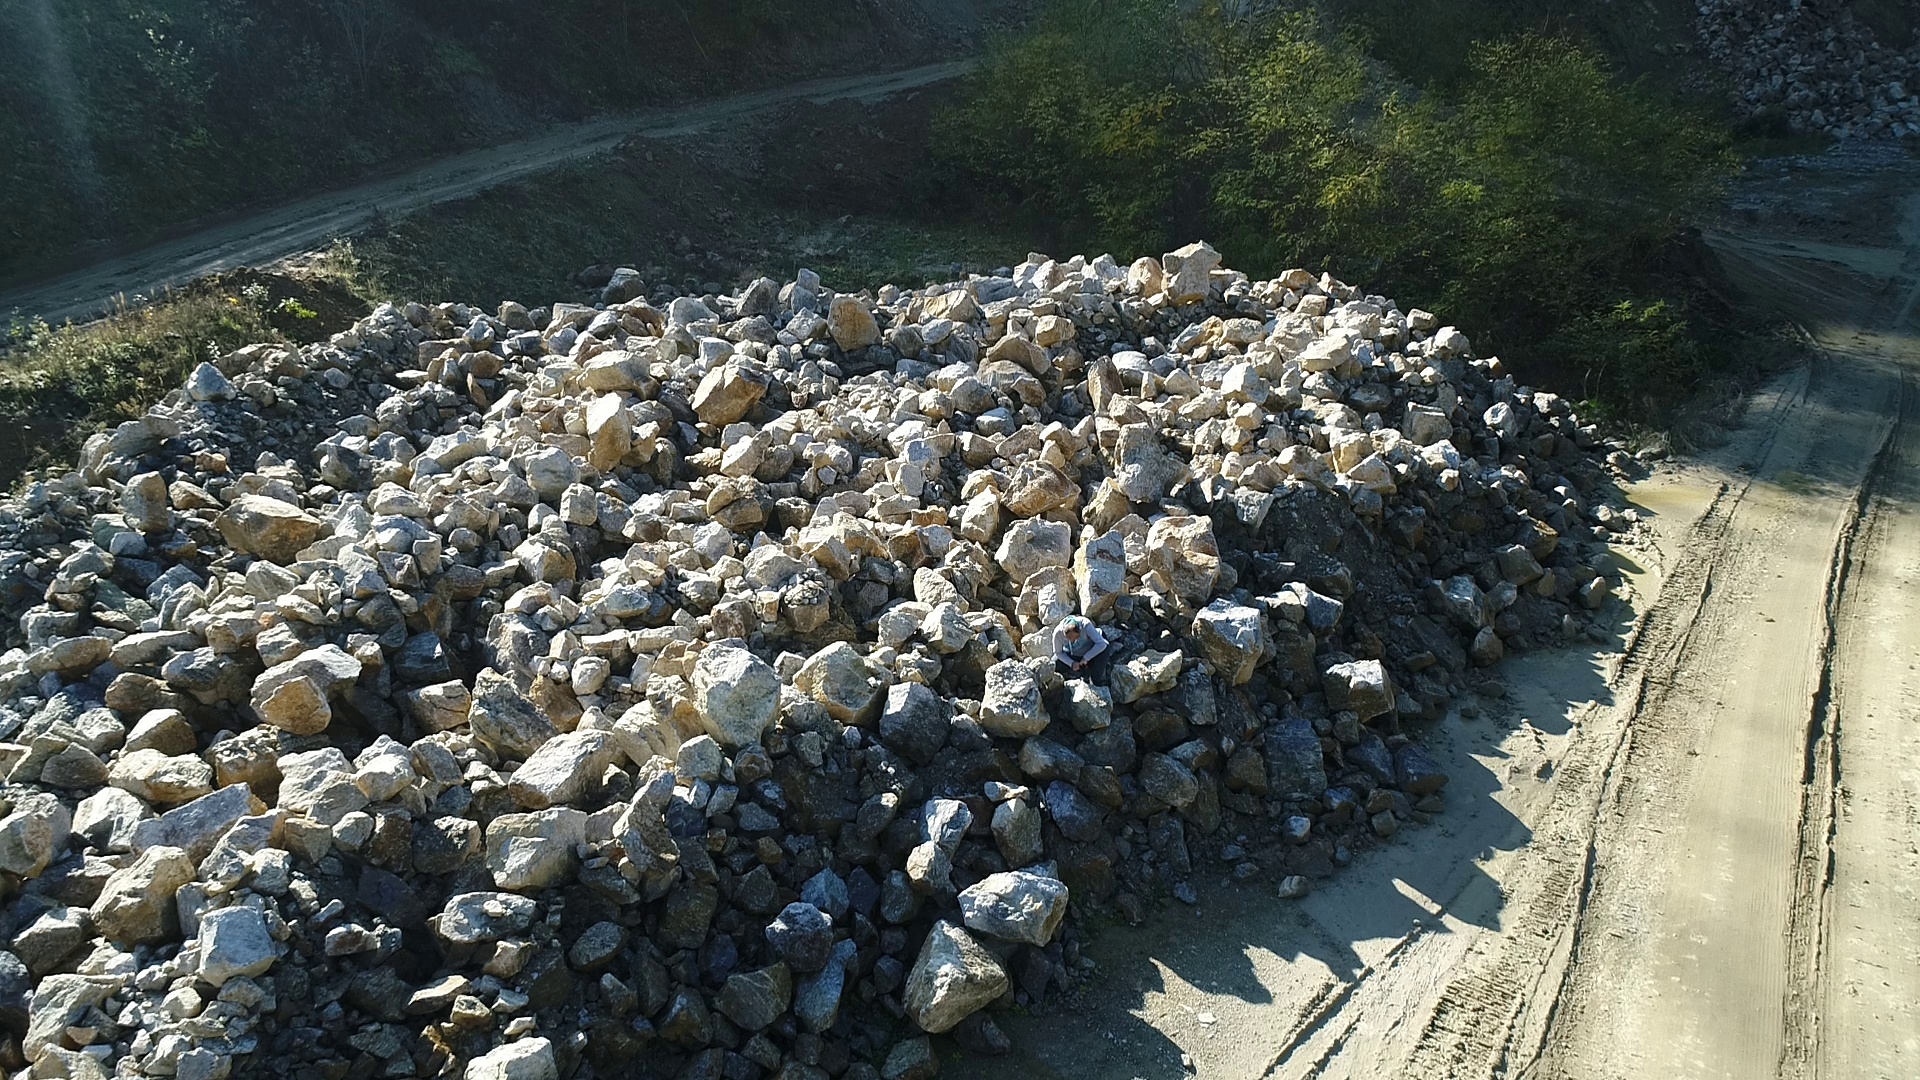person: (1052, 615, 1112, 687)
